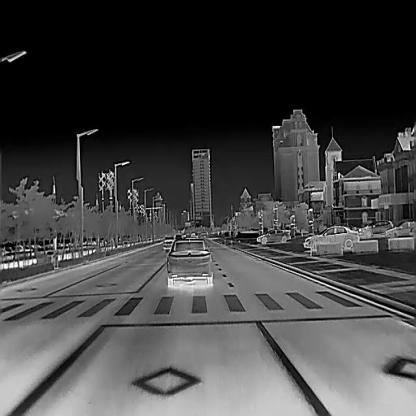car: (166, 236, 214, 286), (302, 225, 360, 249), (384, 218, 416, 239), (356, 219, 393, 236), (255, 228, 290, 244), (162, 236, 175, 250)
